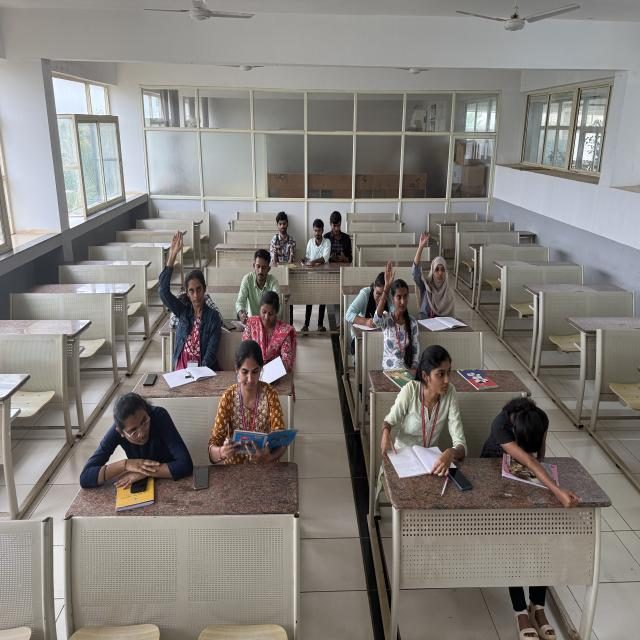Hand Rising: (156, 225, 215, 355)
Reading: (213, 339, 299, 454), (239, 292, 296, 382)
Sleeping: (78, 384, 190, 486), (484, 392, 562, 486)
Using Phone: (324, 209, 353, 264)
Writing: (234, 245, 286, 326), (344, 268, 402, 334)
